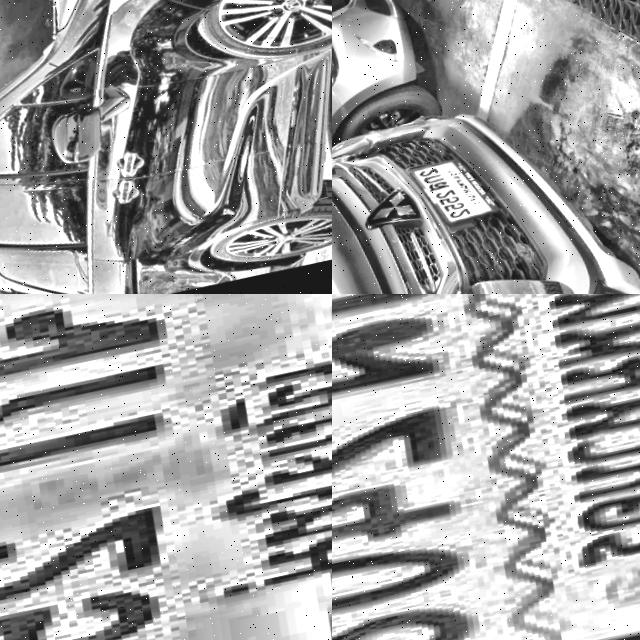license-plate: (0, 294, 332, 640), (332, 294, 640, 640), (407, 147, 508, 229)
